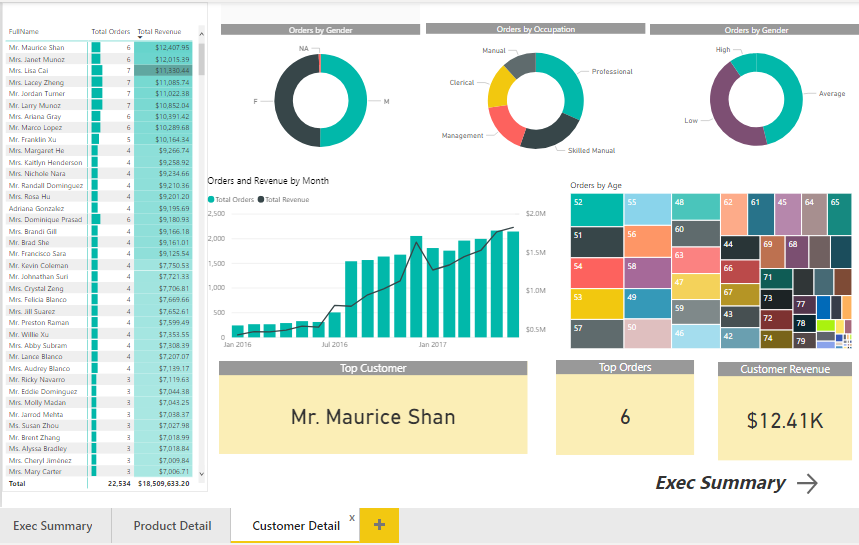

What the dashboard file says about the page in this screenshot:
{"tool":"powerbi","page":{"name":"Customer Detail","canvas":[1280,720],"ordinal":2},"visuals":[{"type":"pivotTable","fields":{"Values":["AW_Sales.Total Orders","AW_Sales.Total Revenue"],"Rows":["AW_Customers_Lookup.FullName"]},"box":[0,0,305.9,698],"z":1},{"type":"donutChart","fields":{"Y":["AW_Sales.Total Orders"],"Category":["AW_Customers_Lookup.Occupation"]},"box":[630,1.6,326.3,214.7],"z":2},{"type":"donutChart","fields":{"Y":["AW_Sales.Total Orders"],"Category":["AW_Customers_Lookup.Gender"]},"box":[325.3,3.2,295.8,210.5],"z":2},{"type":"donutChart","fields":{"Y":["AW_Sales.Total Orders"],"Category":["AW_Customers_Lookup.IncomeLevel"]},"box":[961.6,3.2,316.3,208.4],"z":2},{"type":"lineClusteredColumnComboChart","fields":{"Y":["AW_Sales.Total Orders"],"Y2":["AW_Sales.Total Revenue"],"Category":["AW_Calendar_Lookup.Start of Month"]},"box":[300,227.4,513.2,270],"z":5},{"type":"treemap","fields":{"Values":["AW_Sales.Total Orders"],"Group":["AW_Customers_Lookup.Current Age"]},"box":[838.4,233.7,427.9,257.4],"z":6},{"type":"card","fields":{"Values":["AW_Sales.Total Orders"]},"box":[822,502.5,205.5,141.2],"z":7},{"type":"card","fields":{"Values":["AW_Customers_Lookup.FullName"]},"box":[321.6,503.5,458,138],"z":7},{"type":"card","fields":{"Values":["AW_Sales.Total Revenue"]},"box":[1063.5,504.1,199.2,145.9],"z":7},{"type":"textbox","box":[963.1,657.3,219.6,62.7],"z":10},{"type":"actionButton","box":[1174.4,665.6,100.4,40.8],"z":11}]}

Visuals, with their boxes on the page's 1280x720 design canvas (x1, y1, x2, y2). These are canvas units, not pixel positions in the 859x545 screenshot, which may show the page scaled, cropped or inside an application window:
pivotTable - AW_Sales.Total Orders x AW_Sales.Total Revenue: x1=0, y1=0, x2=306, y2=698
donutChart - AW_Sales.Total Orders x AW_Customers_Lookup.Occupation: x1=630, y1=2, x2=956, y2=216
donutChart - AW_Sales.Total Orders x AW_Customers_Lookup.Gender: x1=325, y1=3, x2=621, y2=214
donutChart - AW_Sales.Total Orders x AW_Customers_Lookup.IncomeLevel: x1=962, y1=3, x2=1278, y2=212
lineClusteredColumnComboChart - AW_Sales.Total Orders x AW_Sales.Total Revenue: x1=300, y1=227, x2=813, y2=497
treemap - AW_Sales.Total Orders x AW_Customers_Lookup.Current Age: x1=838, y1=234, x2=1266, y2=491
card - AW_Sales.Total Orders: x1=822, y1=502, x2=1028, y2=644
card - AW_Customers_Lookup.FullName: x1=322, y1=504, x2=780, y2=642
card - AW_Sales.Total Revenue: x1=1064, y1=504, x2=1263, y2=650
textbox: x1=963, y1=657, x2=1183, y2=720
actionButton: x1=1174, y1=666, x2=1275, y2=706
